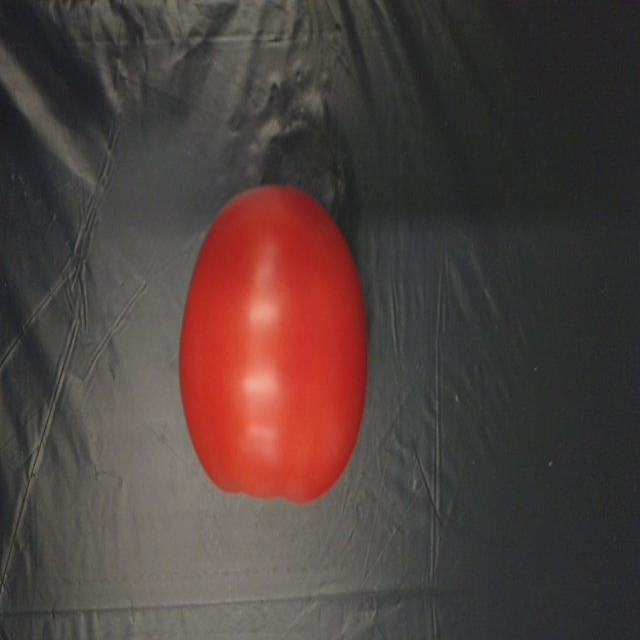kirmizi: (177, 176, 380, 514)
